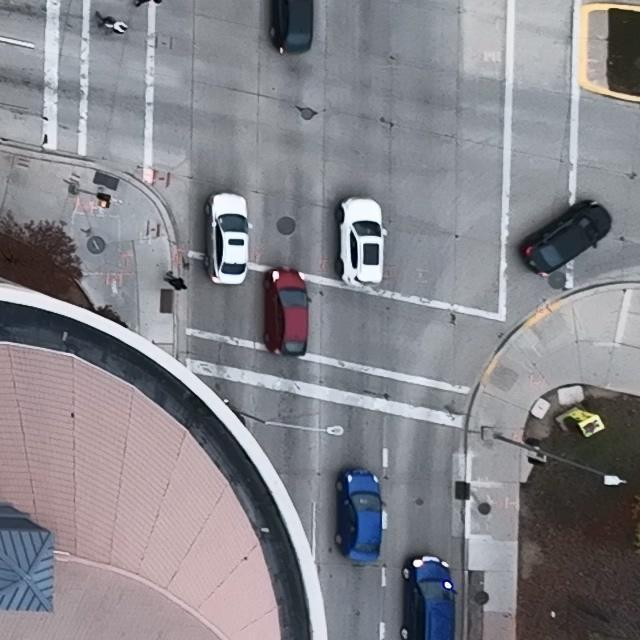car: (519, 201, 613, 275), (334, 468, 386, 562), (335, 196, 389, 286), (400, 554, 456, 640), (203, 191, 252, 285), (264, 267, 311, 356), (269, 0, 314, 53)
